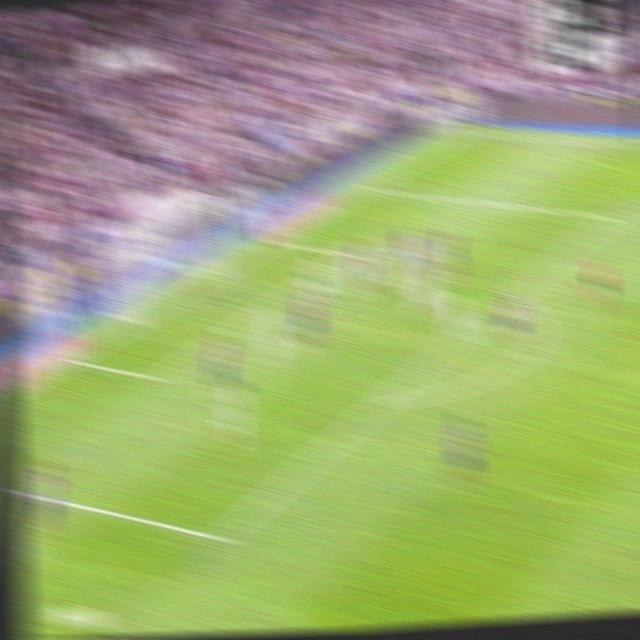bigarea_bottom_inner: (205, 520, 232, 554)
bigarea_top_inner: (599, 205, 621, 227)
bigarea_top_outter: (355, 177, 376, 194)
bottom_arc_area_intersection: (370, 385, 395, 415)
corner: (450, 122, 472, 138)
smallarea_bottom_inner: (148, 364, 171, 391)
top_arc_area_intersection: (506, 280, 527, 302)
